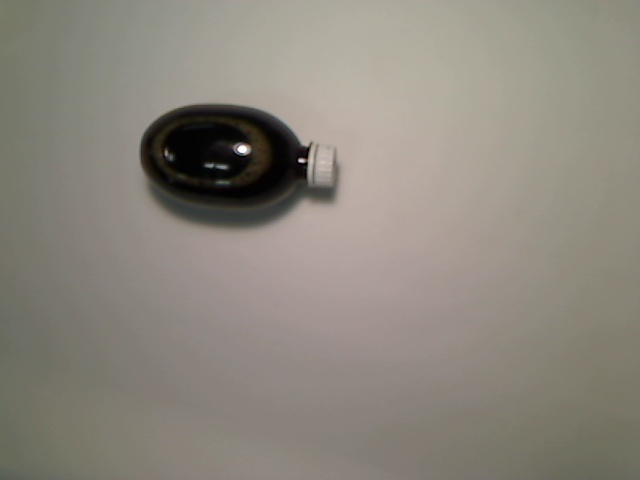plast_bottle: (138, 100, 338, 214)
